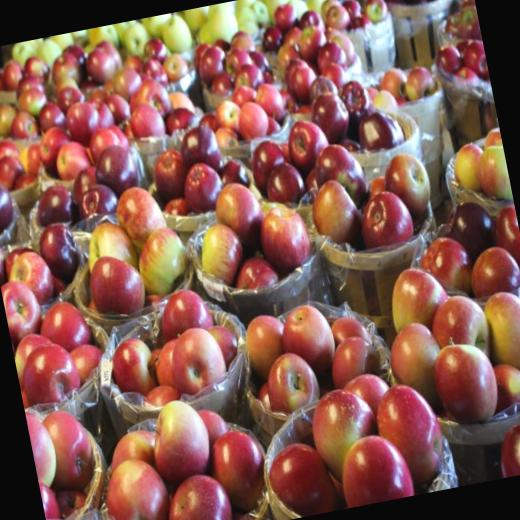Apple: (0, 7, 231, 205), (364, 189, 520, 432), (146, 106, 316, 302), (0, 116, 135, 336), (258, 367, 450, 520), (92, 385, 275, 520), (244, 294, 389, 420), (302, 122, 436, 257), (100, 284, 244, 408), (73, 178, 195, 321), (182, 27, 290, 145), (5, 296, 109, 408), (25, 401, 105, 520), (272, 6, 360, 104), (306, 72, 402, 158), (425, 0, 491, 95), (196, 0, 326, 44), (447, 127, 512, 204), (365, 62, 439, 116), (321, 0, 390, 31), (494, 418, 520, 477), (366, 0, 473, 14)
